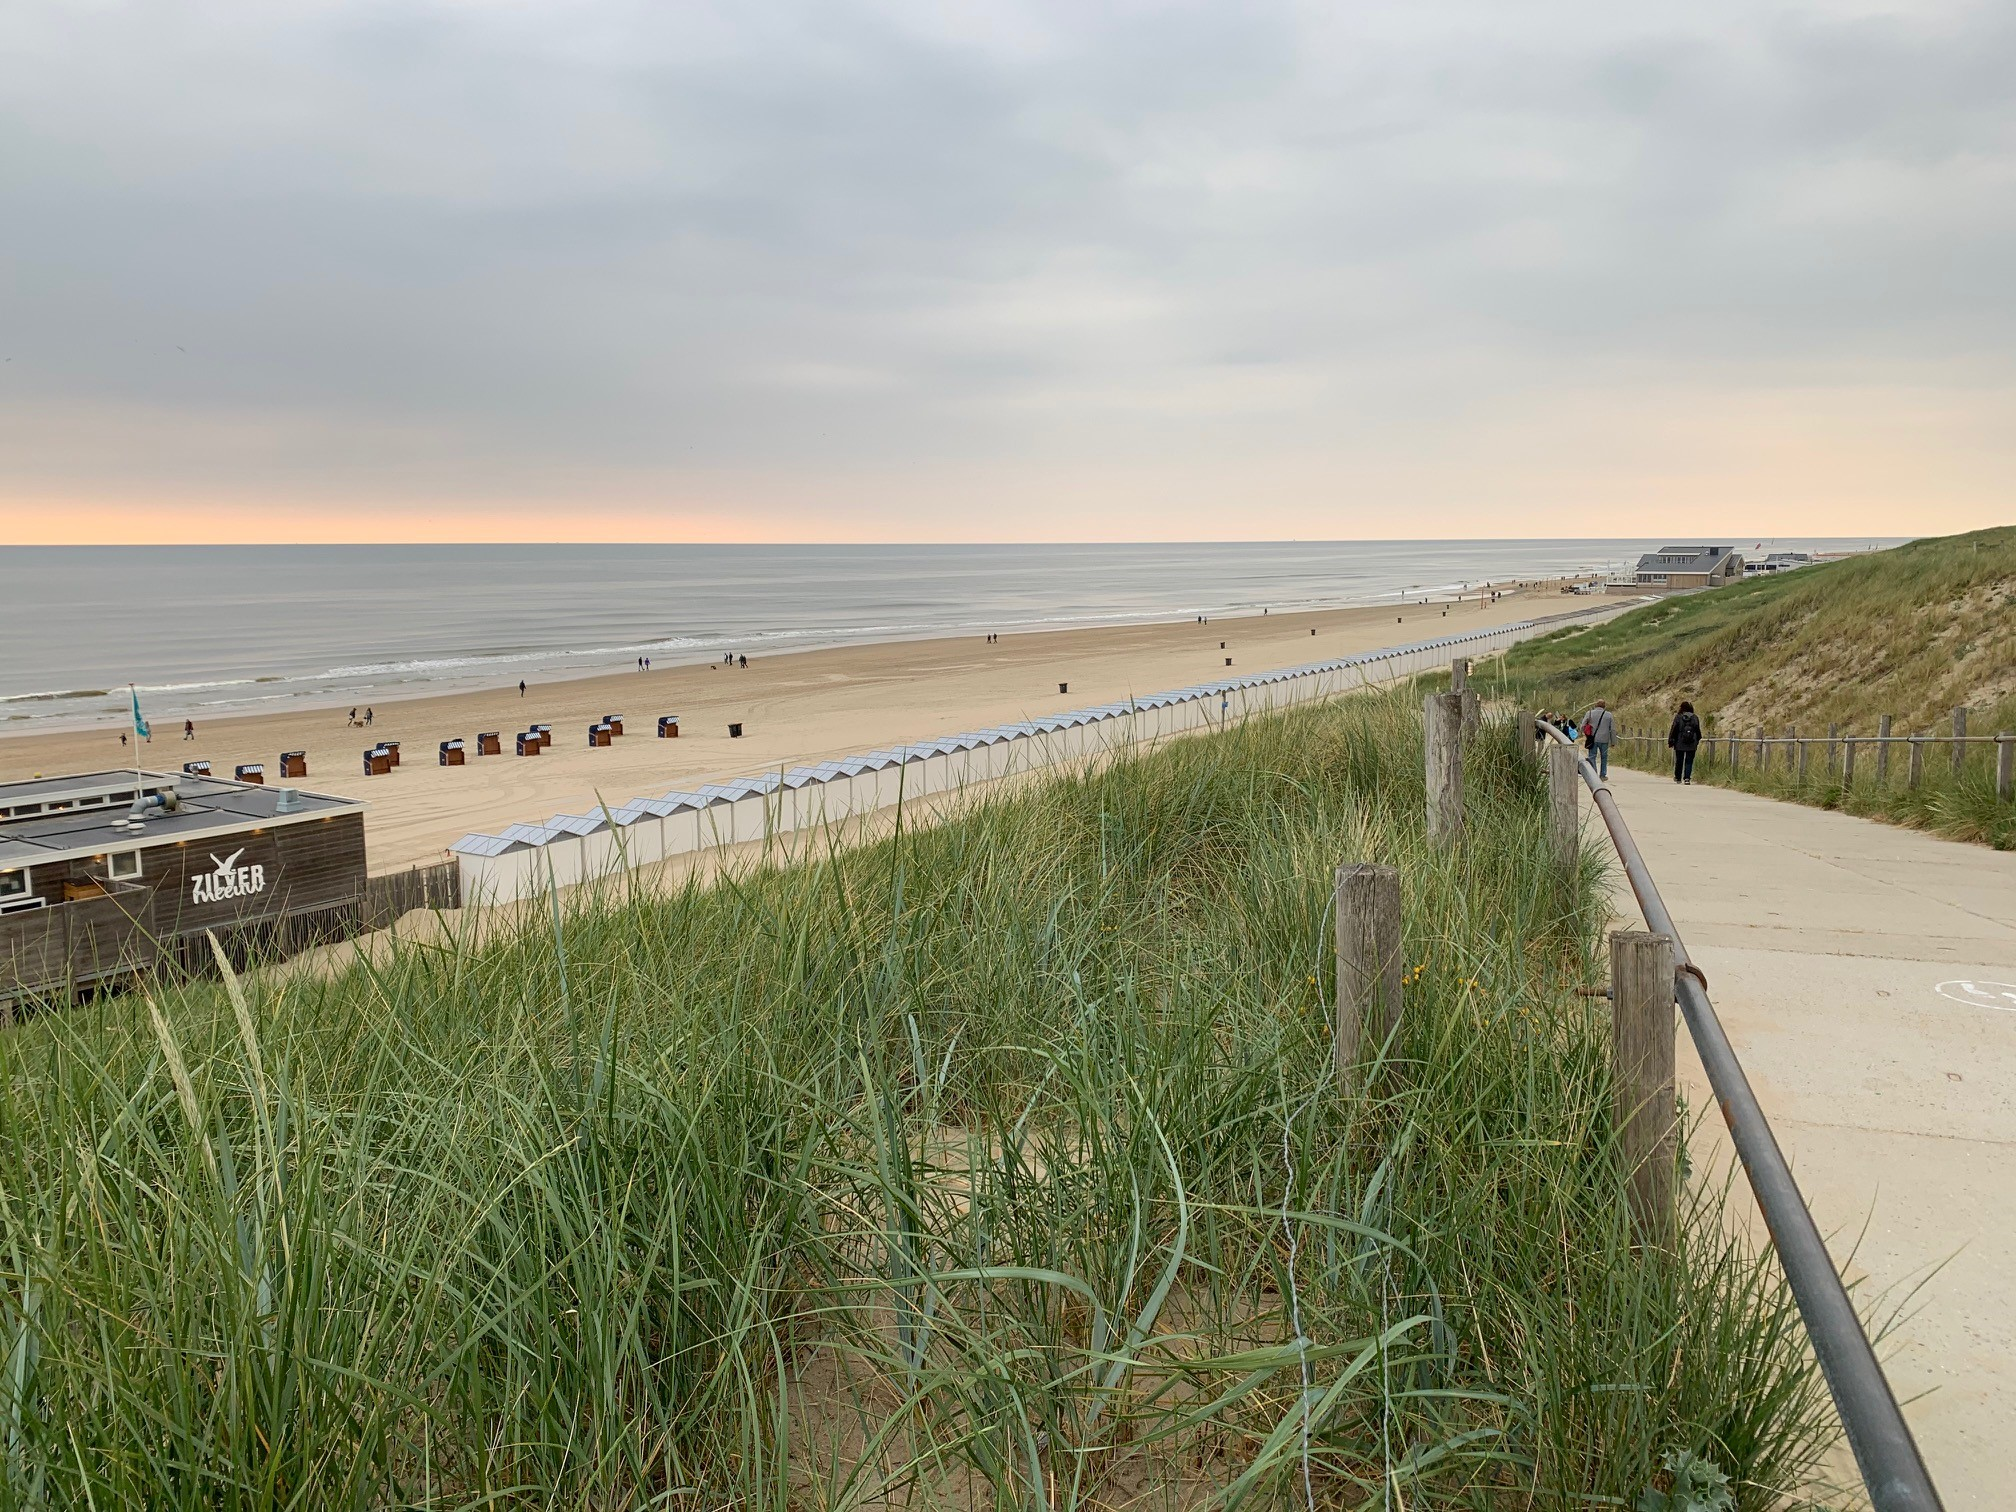strandtent: (1589, 526, 1754, 600)
